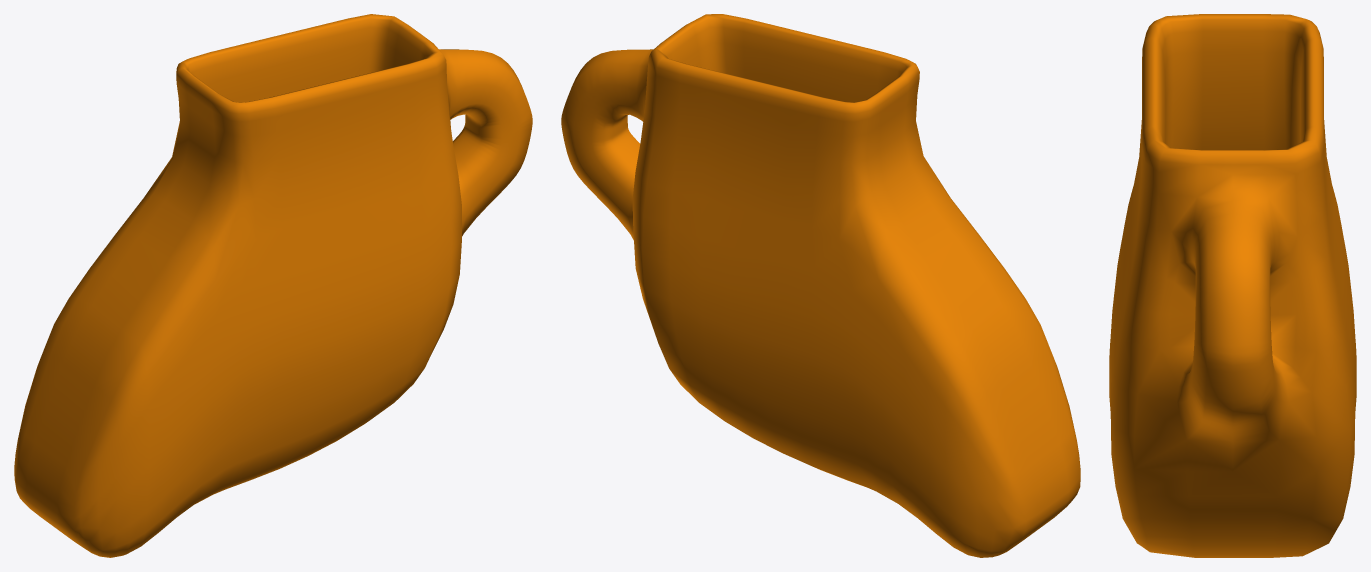
Rendered from vasija3.fbx.
The picture shows the model from 3 angles, left to right: view 1: azimuth 30°, elevation 25°; view 2: azimuth 150°, elevation 25°; view 3: azimuth 270°, elevation 25°; orthographic projection. The views are drawn at different scales.
Parts seen in each view (by area): view 1: Vasija; view 2: Vasija; view 3: Vasija.
Part boxes in pixels (left/top/right/bottom): Vasija: left=14, top=14, right=532, bottom=557; Vasija: left=561, top=14, right=1080, bottom=557; Vasija: left=1109, top=14, right=1356, bottom=557.
Size of the model in its own units: 0.5887 by 0.486 by 0.1978.
